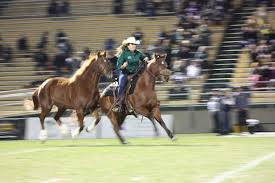Horse: (30, 51, 116, 146), (104, 55, 180, 146)
Person: (114, 36, 142, 109)
